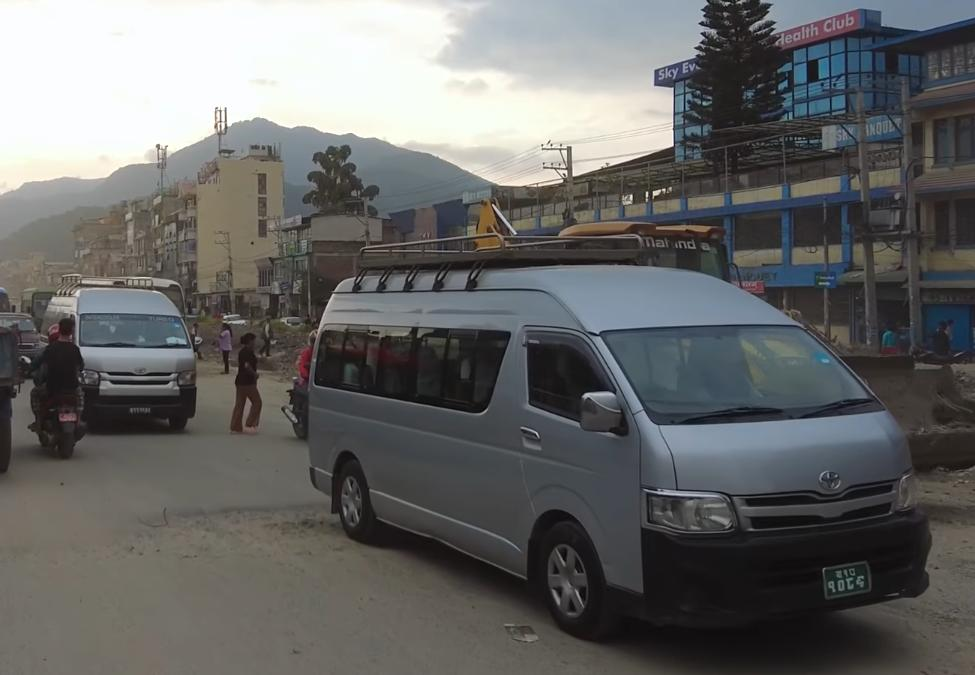bike: (20, 352, 96, 464)
micro_bus: (287, 226, 943, 650), (29, 263, 200, 437)
